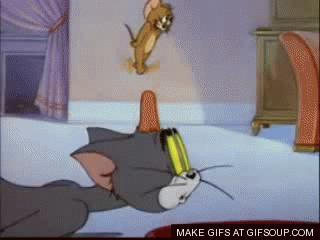jerry: (124, 1, 176, 76)
